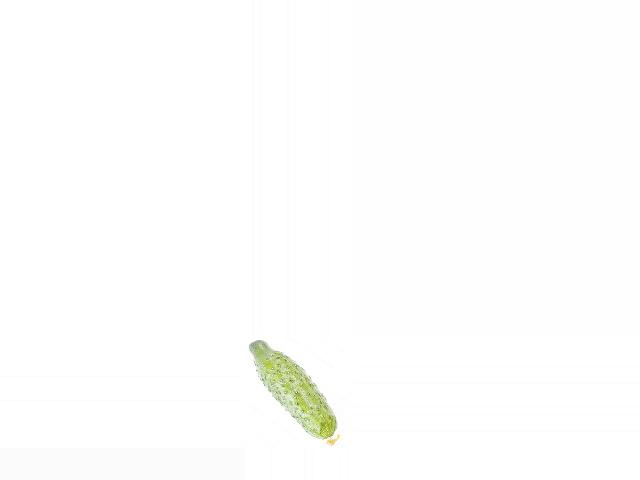cucumber: (248, 340, 339, 446)
